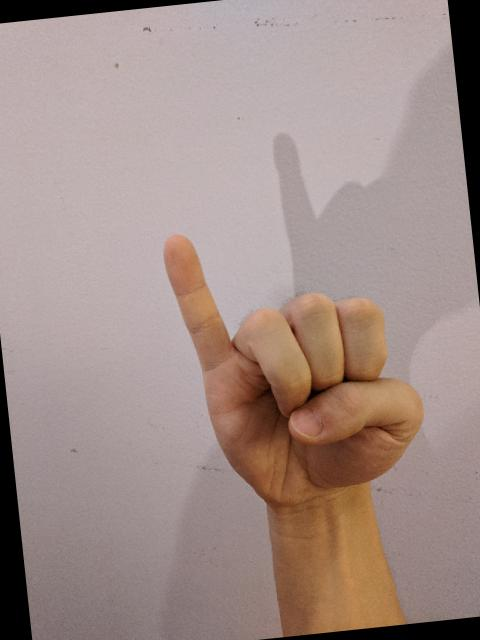I: (157, 206, 438, 518)
